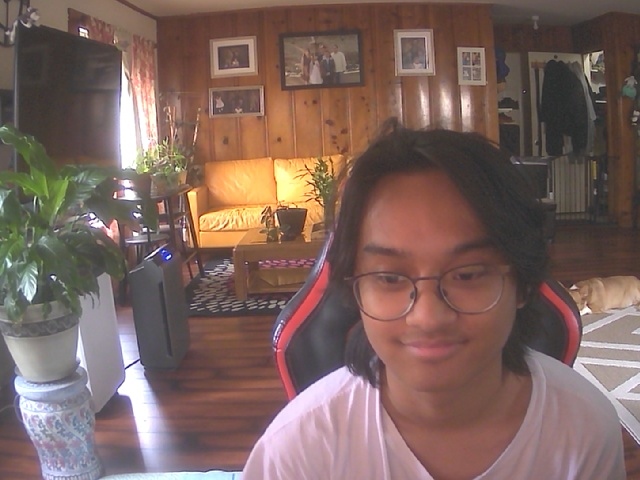happy: (340, 143, 537, 401)
